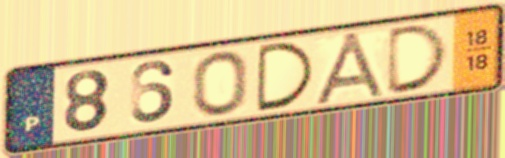6: (129, 59, 178, 126)
8: (63, 68, 113, 134)
A: (310, 29, 392, 108)
D: (383, 20, 453, 98), (254, 39, 319, 114)
O: (190, 48, 251, 118)
